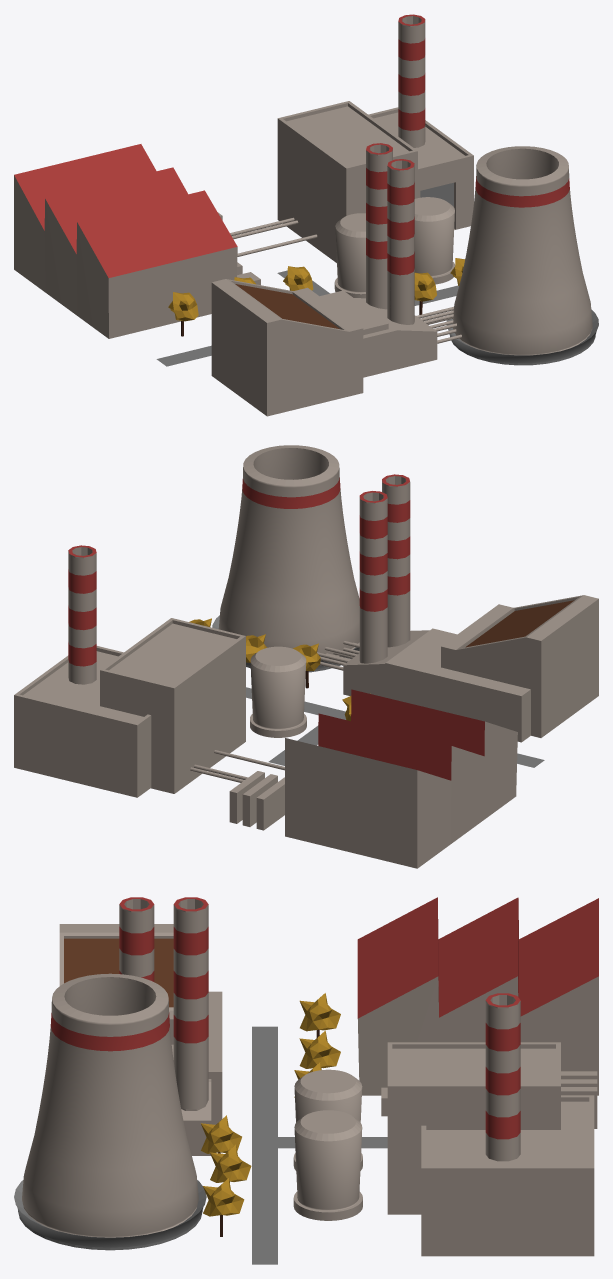
Rendered from industrial_factory.fbx.
The picture shows the model from 3 angles, top to bottom: view 1: azimuth 30°, elevation 25°; view 2: azimuth 150°, elevation 25°; view 3: azimuth 270°, elevation 25°; orthographic projection. The views are drawn at different scales.
Parts seen in each view (by area): view 1: industrial_factory; view 2: industrial_factory; view 3: industrial_factory.
Boxes of the visible parts, x1=… form: industrial_factory: x1=14, y1=14, x2=598, y2=416; industrial_factory: x1=14, y1=445, x2=598, y2=868; industrial_factory: x1=14, y1=897, x2=598, y2=1264.
Bounding box in the file's own units: 345 × 344 × 155.
